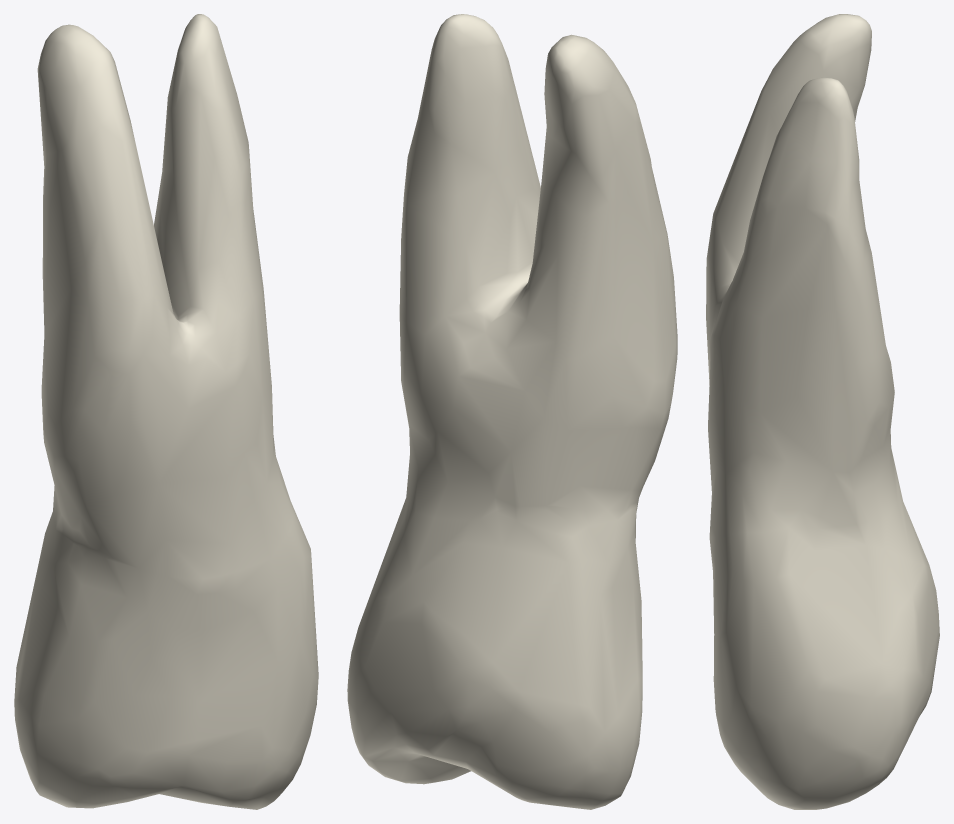
3 views of the same model, side by side, from view 1: azimuth 30°, elevation 25°; view 2: azimuth 150°, elevation 25°; view 3: azimuth 270°, elevation 25° (orthographic). The views are drawn at different scales.
Parts seen in each view (by area): view 1: ZA_45931960382be970; view 2: ZA_45931960382be970; view 3: ZA_45931960382be970.
Boxes of the visible parts, <box> form: ZA_45931960382be970: <box>14,14,318,809</box>; ZA_45931960382be970: <box>347,14,677,809</box>; ZA_45931960382be970: <box>706,14,939,809</box>.
Bounding box in the file's own units: 0.00909 × 0.0253 × 0.00743.
